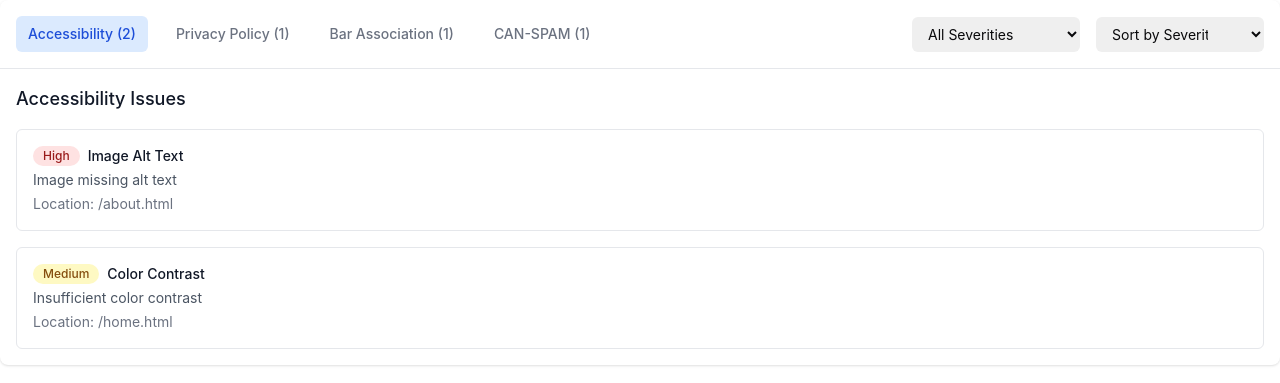
Test case: ScanResults › displays issues for the selected category
Expected: the text "Image Alt Text" is shown, [88,146,183,166]
Expected: the text "Color Contrast" is shown, [107,264,205,284]
# Switch to privacy category
Click the button "Privacy Policy (1)". click: (233, 34)
box: [164,16,302,52]
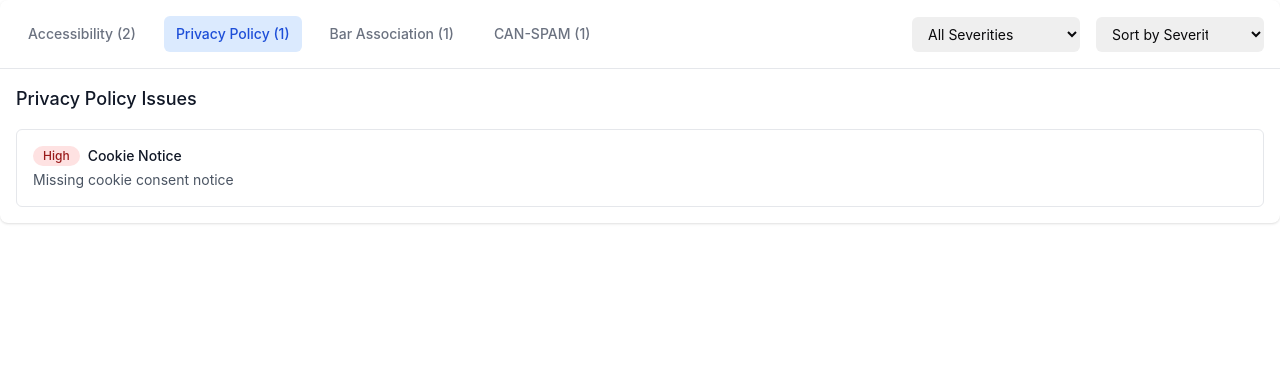
Now the text "Cookie Notice" is shown, box [88,146,182,166]
